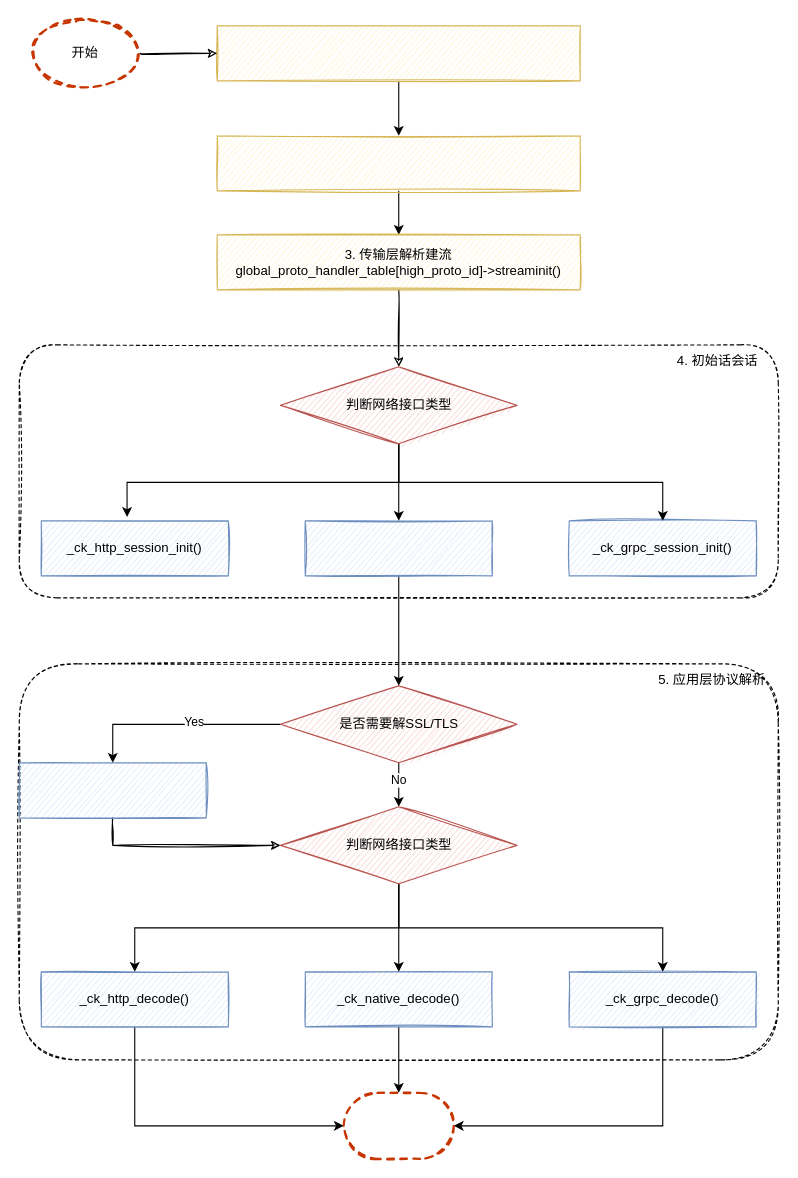
This 798x1178 diagram has some shape labels left out. The centre of each missing label's shape, as x and y in pixels:
"1. 注册解析函数 RegisterDecodeFuncs()" belongs at (x=398, y=53).
"2. DcodeFP回调 ((global_proto_handler_table[hi_proto_id])->decode)()" belongs at (x=398, y=163).
"_ck_native_session_init()" belongs at (x=398, y=548).
"_ck_tls_decode()" belongs at (x=112, y=790).
"结束" belongs at (x=398, y=1125).
